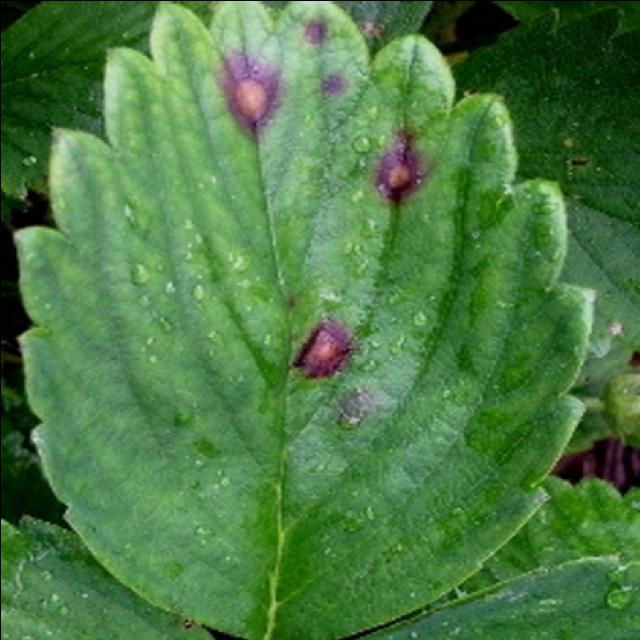Leaf Spot: (10, 2, 598, 640)
